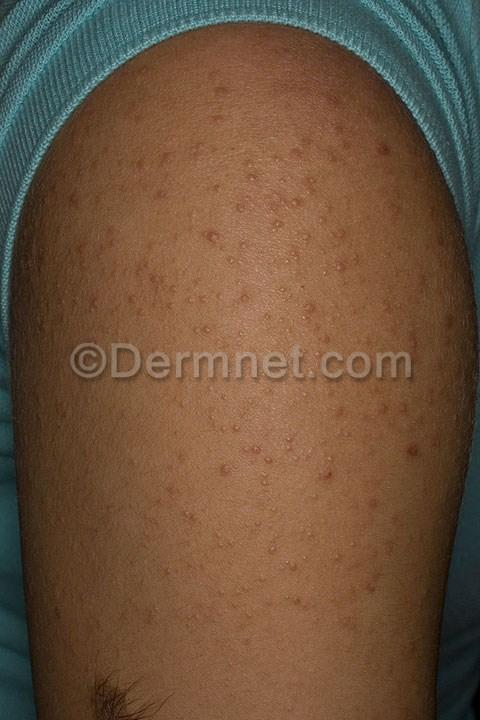edema 1: (15, 78, 470, 658)
